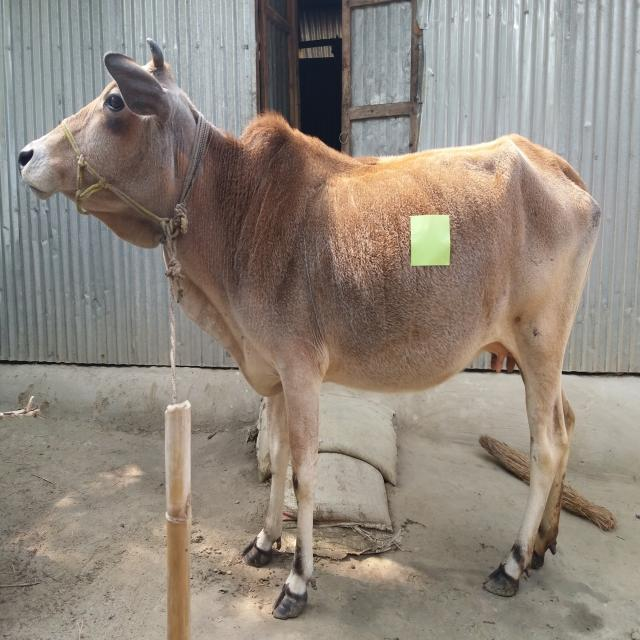badan_sapi: (243, 108, 588, 400)
sapi: (10, 29, 609, 626)
